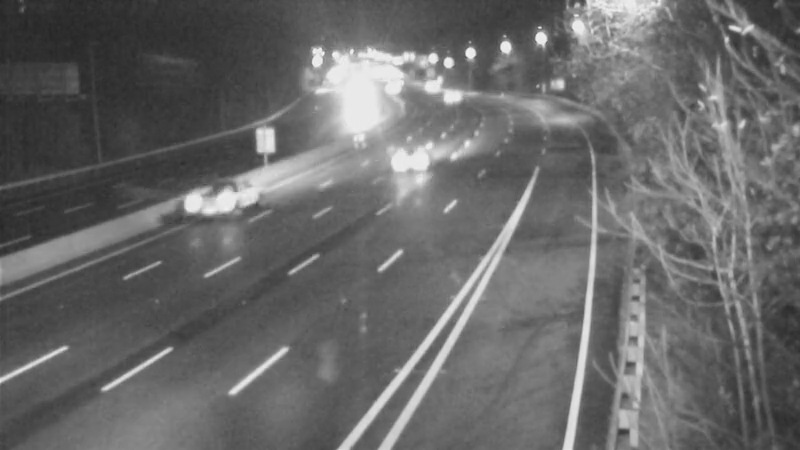vehicle: (371, 114, 451, 194), (177, 158, 257, 238), (404, 60, 454, 110), (428, 70, 478, 120)
